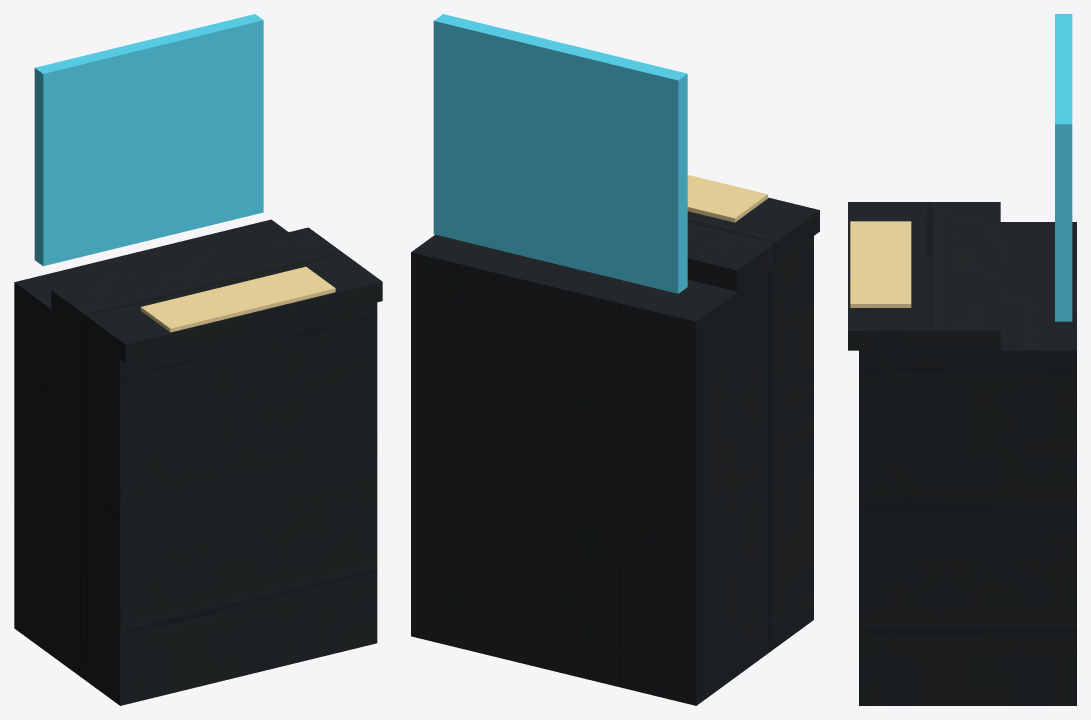
Rendered from terminal_01.glb.
3 renders of one model, left to right at view 1: azimuth 30°, elevation 25°; view 2: azimuth 150°, elevation 25°; view 3: azimuth 270°, elevation 25°, orthographic. The views are drawn at different scales.
Visible parts, largest first — view 1: terminal_01; view 2: terminal_01; view 3: terminal_01.
Boxes of the visible parts, x1=… form: terminal_01: x1=14, y1=14, x2=382, y2=705; terminal_01: x1=411, y1=14, x2=819, y2=705; terminal_01: x1=848, y1=14, x2=1076, y2=705.
Bounding box in the file's own units: 0.6999 × 1.45 × 0.525.
Materials: 3 (2 with a texture image).
